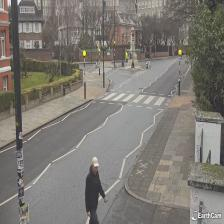person: (85, 156, 107, 224)
